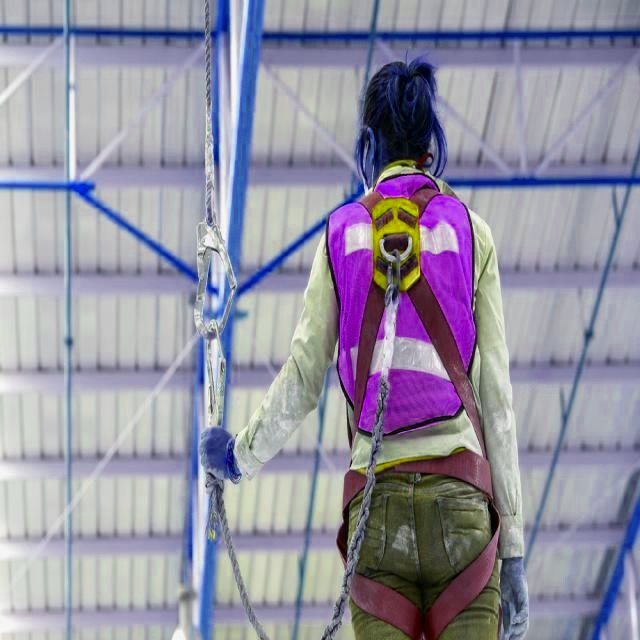safety belt: (314, 226, 513, 623)
